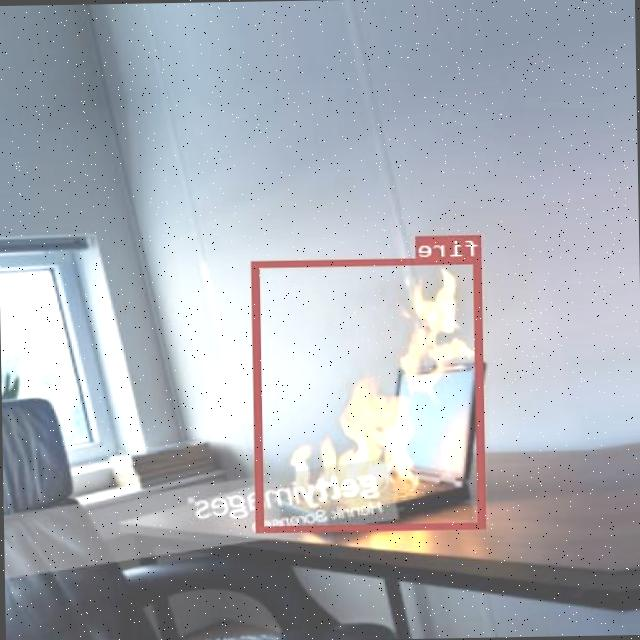fire: (253, 255, 487, 530)
